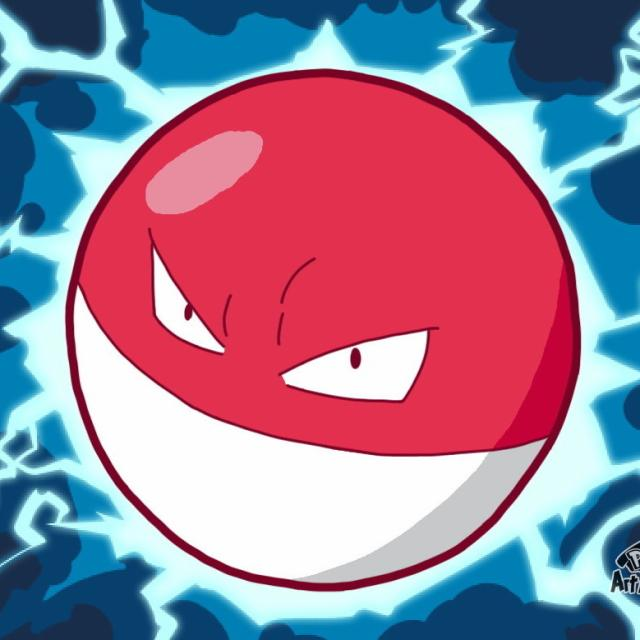Voltorb: (66, 67, 585, 590)
